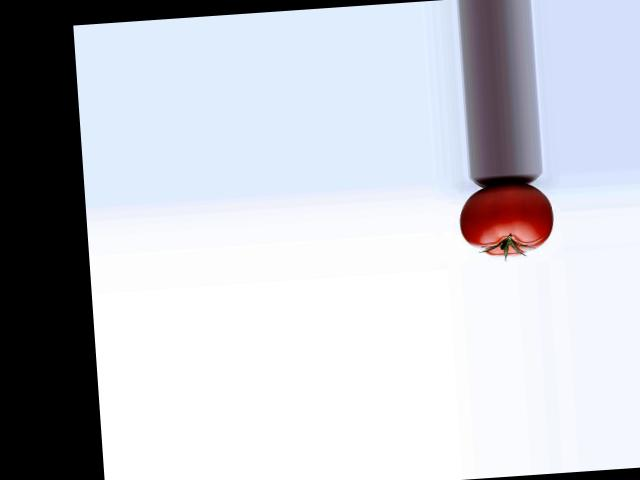tomato: (457, 180, 555, 258)
